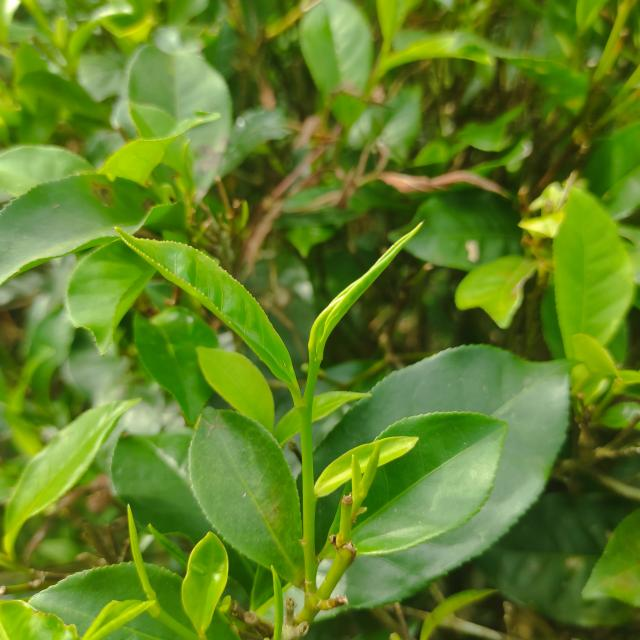unopened_leaf: (301, 212, 433, 367), (119, 499, 161, 610), (350, 438, 384, 515), (146, 517, 189, 564), (267, 560, 288, 640), (345, 444, 366, 517)
